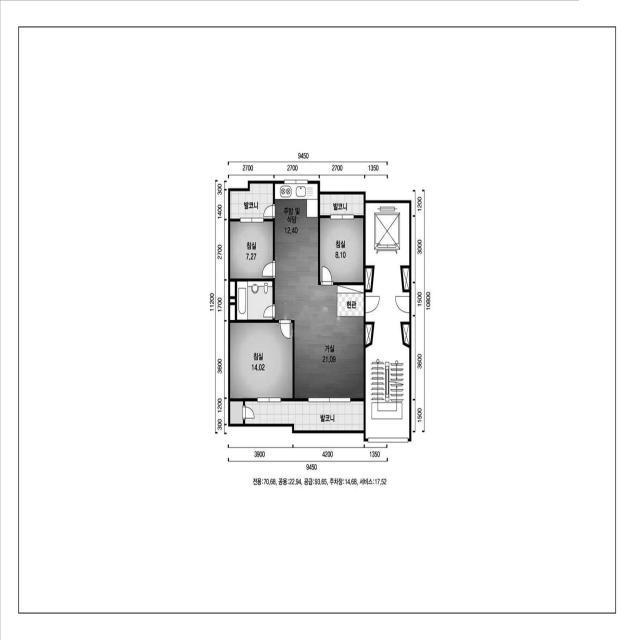background: (0, 0, 640, 639)
space_balconi: (245, 401, 364, 430), (230, 183, 273, 219), (320, 194, 364, 216)
space_bedroom: (230, 323, 293, 398), (320, 218, 363, 283), (230, 221, 273, 279)
space_elevator: (365, 203, 409, 266)
space_elevator_hall: (365, 266, 409, 344)
space_front: (337, 285, 364, 317)
space_kitchen: (275, 184, 318, 237)
space_living_room: (275, 238, 364, 398)
space_other: (230, 401, 243, 424), (365, 324, 373, 346), (365, 268, 373, 290), (402, 324, 410, 345), (402, 268, 409, 290), (230, 281, 235, 297), (230, 305, 235, 320), (230, 299, 235, 303)
space_staircase: (365, 344, 409, 439)
space_toilet: (237, 281, 273, 320)
